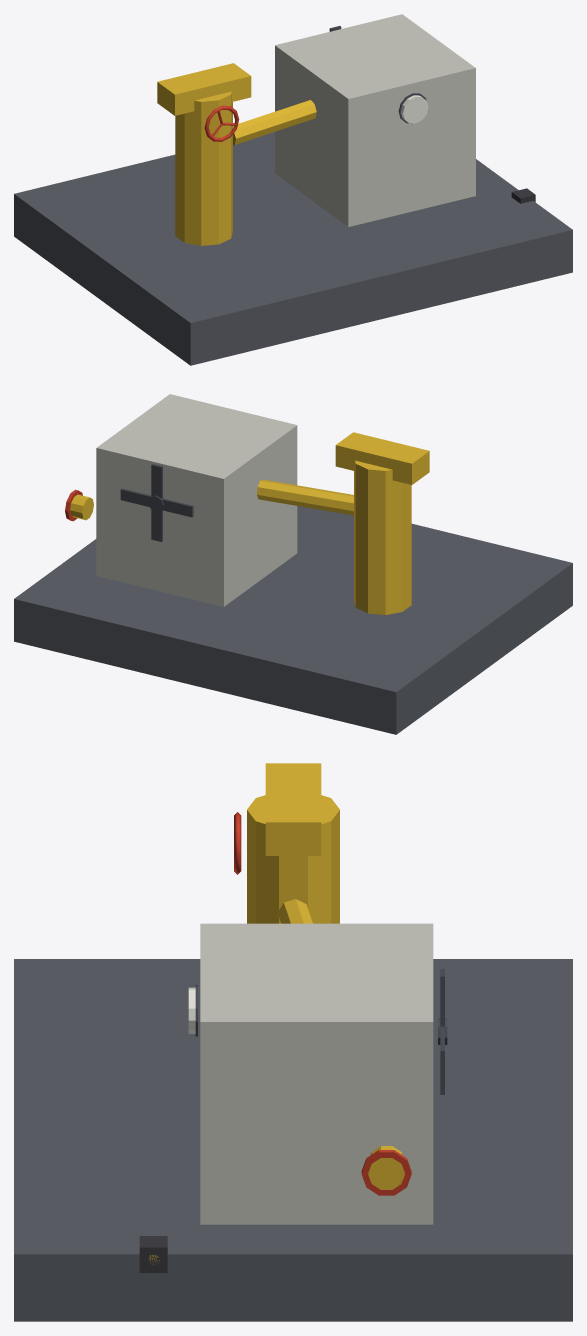
The model's file is GasExtractor@ValveTurn.fbx.
The picture shows the model from 3 angles, top to bottom: view 1: azimuth 30°, elevation 25°; view 2: azimuth 150°, elevation 25°; view 3: azimuth 270°, elevation 25°; orthographic projection. The views are drawn at different scales.
Visible parts, largest first — view 1: GasExtractor_Body, GasExtractor_Valve; view 2: GasExtractor_Body, GasExtractor_Fan; view 3: GasExtractor_Body, GasExtractor_Fan.
Boxes of the visible parts, x1,y1,x2,y2 form: GasExtractor_Body: [14, 14, 572, 365]; GasExtractor_Valve: [204, 105, 239, 141]; GasExtractor_Body: [14, 394, 572, 734]; GasExtractor_Fan: [120, 464, 193, 541]; GasExtractor_Body: [14, 763, 572, 1321]; GasExtractor_Fan: [438, 969, 447, 1094].
Size of the model in its own units: 1.51 by 0.74 by 1.2.
